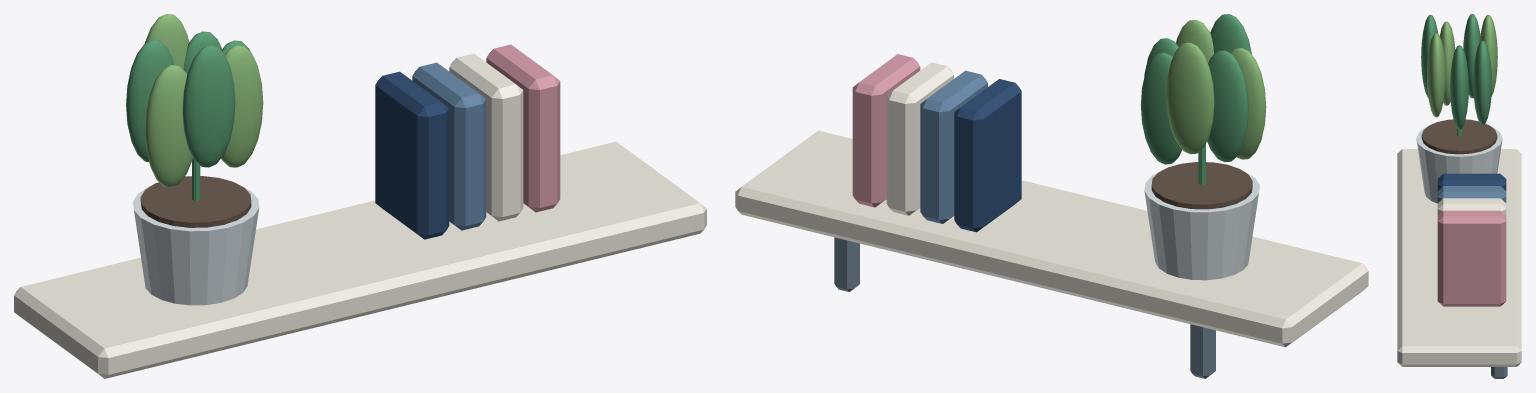
The model's file is decor_08.glb.
3 renders of one model, left to right at view 1: azimuth 30°, elevation 25°; view 2: azimuth 150°, elevation 25°; view 3: azimuth 270°, elevation 25°, orthographic. The views are drawn at different scales.
Visible parts, largest first — view 1: FloatShelf, ShelfBook (×4), Leaf (×6), Pot, Soil; view 2: FloatShelf, ShelfBook (×4), Leaf (×6), Pot, Soil, WallBracket (×2); view 3: FloatShelf, ShelfBook (×4), Leaf (×7), Pot, Soil, WallBracket.
Part boxes in pixels (bbox=[...]): FloatShelf: bbox=[14, 141, 706, 378]; ShelfBook (×4): bbox=[375, 44, 560, 239]; Leaf (×6): bbox=[126, 14, 263, 187]; Pot: bbox=[133, 186, 259, 305]; Soil: bbox=[140, 176, 251, 227]; FloatShelf: bbox=[735, 130, 1368, 347]; ShelfBook (×4): bbox=[852, 54, 1021, 232]; Leaf (×6): bbox=[1140, 14, 1266, 164]; Pot: bbox=[1144, 171, 1259, 280]; Soil: bbox=[1151, 162, 1252, 209]; WallBracket (×2): bbox=[834, 237, 1215, 378]; FloatShelf: bbox=[1397, 149, 1521, 366]; ShelfBook (×4): bbox=[1437, 173, 1506, 306]; Leaf (×7): bbox=[1421, 14, 1497, 129]; Pot: bbox=[1416, 126, 1502, 203]; Soil: bbox=[1421, 119, 1497, 154]; WallBracket: bbox=[1491, 367, 1507, 378].
Bounding box in the file's own units: 1.15 × 0.6375 × 0.3.
